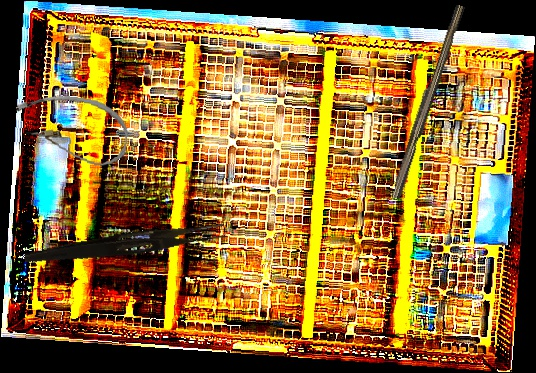Cannula: (10, 89, 132, 169)
Dressing Forceps: (23, 215, 226, 274)
Scalpel Handle: (388, 2, 465, 201)
